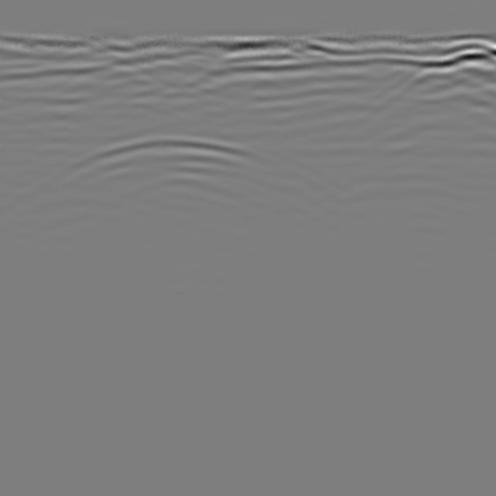hyperbola: (44, 119, 317, 240)
